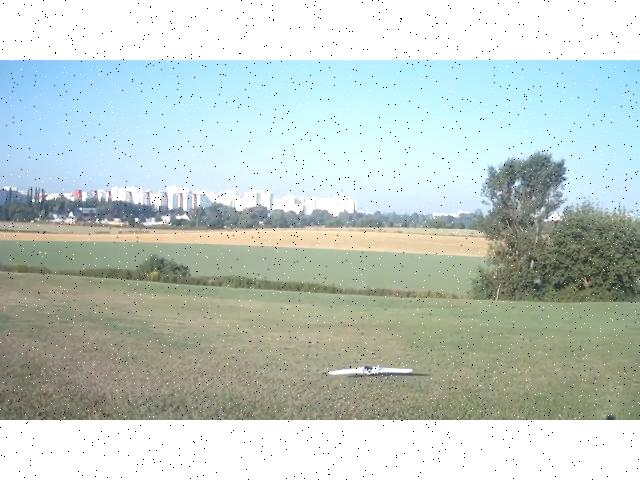Anti-Drone: (316, 353, 422, 391)
